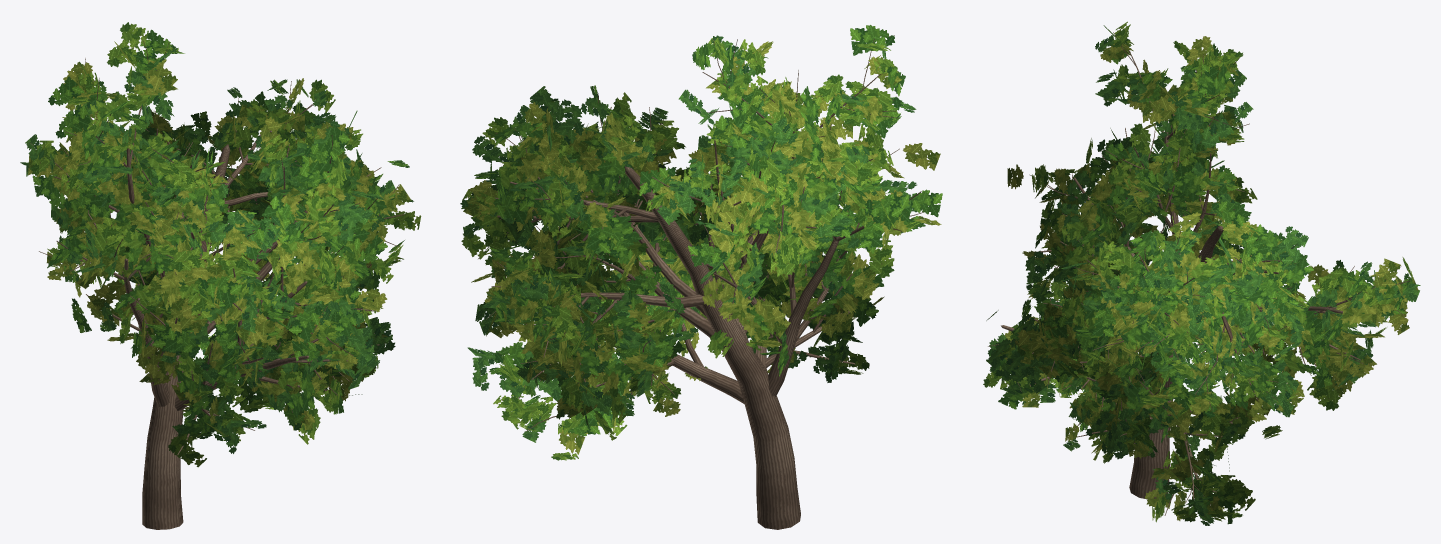
Rendered from hero_oak_a.obj.
3 views of the same model, side by side, from view 1: azimuth 30°, elevation 25°; view 2: azimuth 150°, elevation 25°; view 3: azimuth 270°, elevation 25° (orthographic). The views are drawn at different scales.
Visible parts, largest first — view 1: hero_oak_a; view 2: hero_oak_a; view 3: hero_oak_a.
Part boxes in pixels (left/top/right/bottom): hero_oak_a: left=20, top=22, right=421, bottom=529; hero_oak_a: left=460, top=25, right=942, bottom=529; hero_oak_a: left=983, top=21, right=1420, bottom=525.
Size of the model in its own units: 12.36 by 13.96 by 12.53.
Materials: 2 (2 with a texture image).
